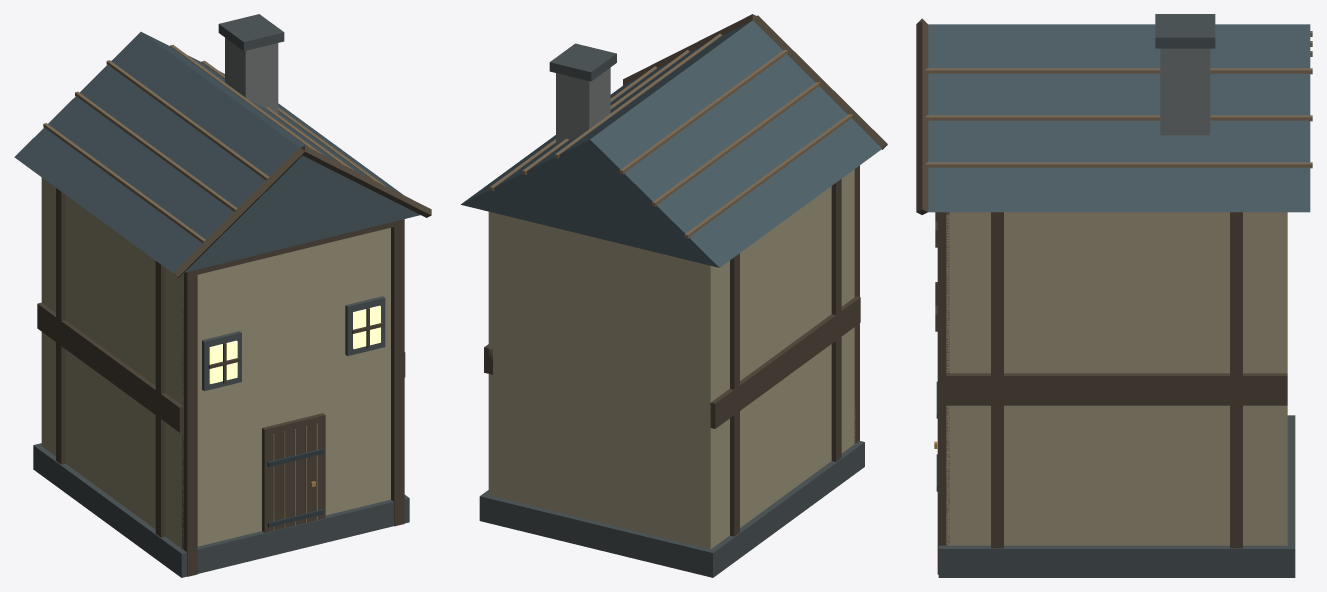
Rendered from BLD_House_02_Town.glb.
3 renders of one model, left to right at view 1: azimuth 30°, elevation 25°; view 2: azimuth 150°, elevation 25°; view 3: azimuth 270°, elevation 25°, orthographic. The views are drawn at different scales.
Visible parts, largest first — view 1: BLD_House_02_Town; view 2: BLD_House_02_Town; view 3: BLD_House_02_Town.
Boxes of the visible parts, box(x1,y1,x2,y2) form: BLD_House_02_Town: box(14, 14, 431, 577); BLD_House_02_Town: box(461, 14, 887, 577); BLD_House_02_Town: box(916, 14, 1312, 577).
Size of the model in its own units: 3.57 by 5.71 by 3.95.
